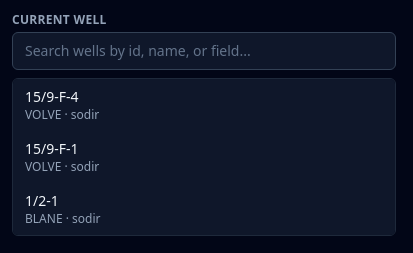
Scenario: WellSelector › shows an empty state when the search matches nothing
Type "zzz-no-match" into the field labelled "Current Well". click: (204, 51)
box: [12,32,396,70]
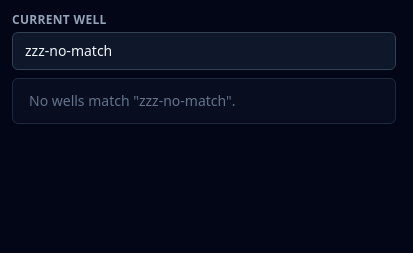
Now the text "No wells match \"zzz-no-match\"." is shown, box [12,78,396,124]
